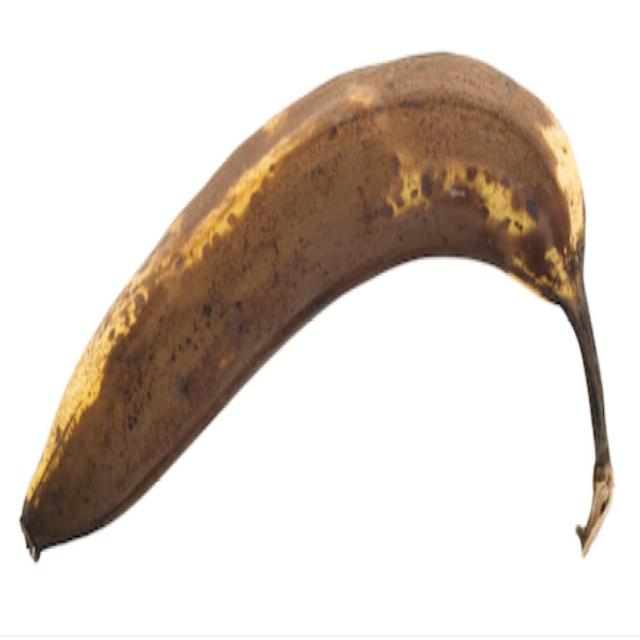rotten-banana: (19, 47, 615, 562)
